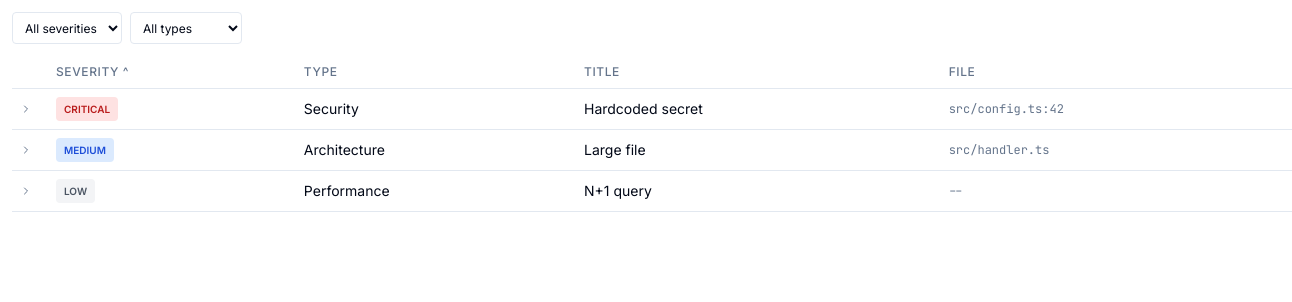
Test: FindingsTable › expands row on click to show description
The image size is (1292, 302).
Step 1. Click the text "Hardcoded secret" → (652, 109), box [12,88,1291,130]
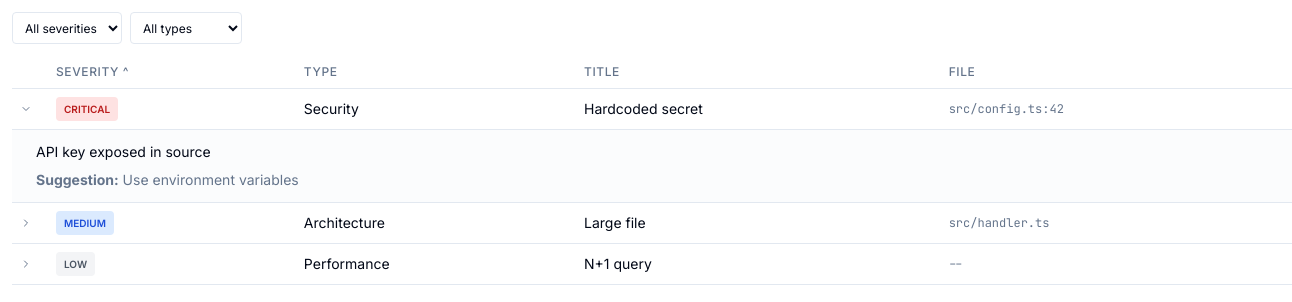
expect the text "API key exposed in source" is shown: met, box [36,143,211,160]
expect the text "Suggestion: Use environment variables" is shown: met, box [36,171,299,188]
